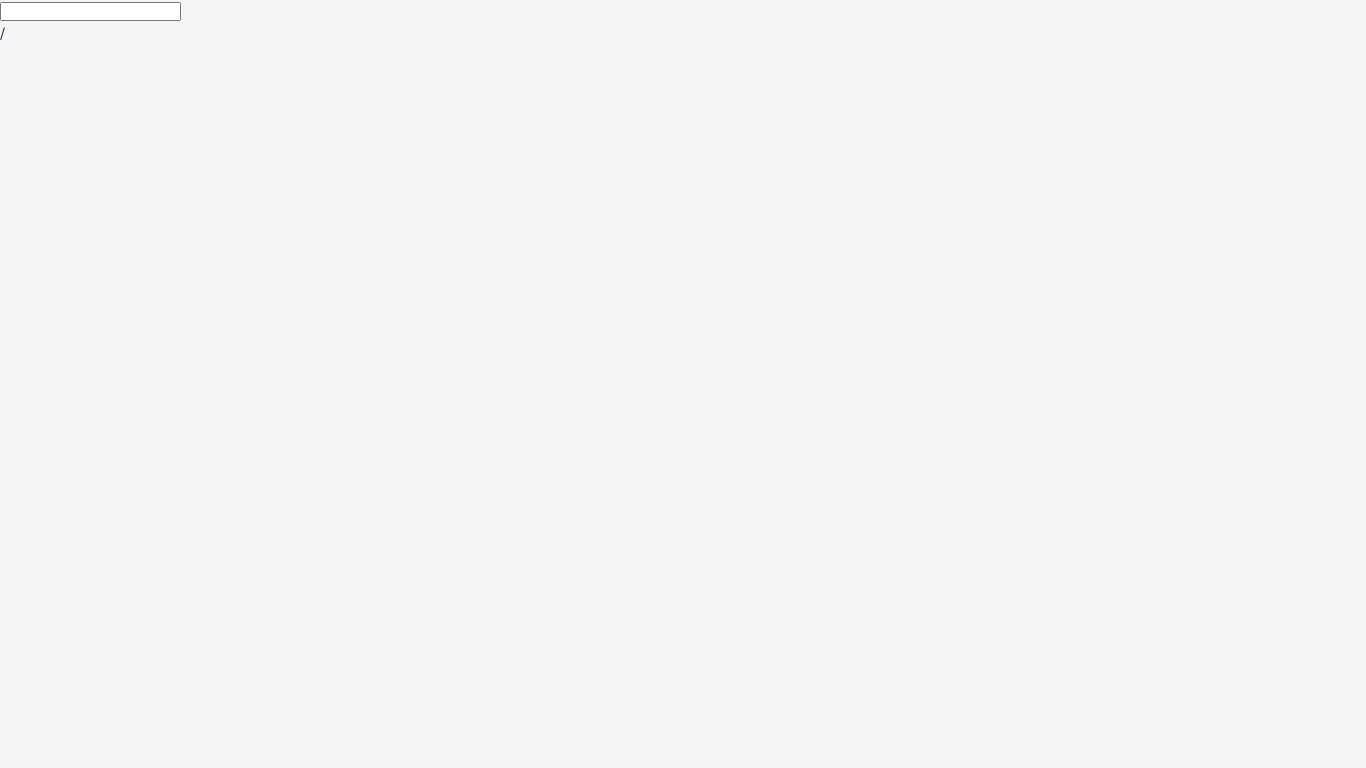
Scenario: typing searches devices server-side and Enter opens the active page
The width and height of the screenshot is (1366, 768).
Step 1. Type keys "{Control>}k{/Control}"
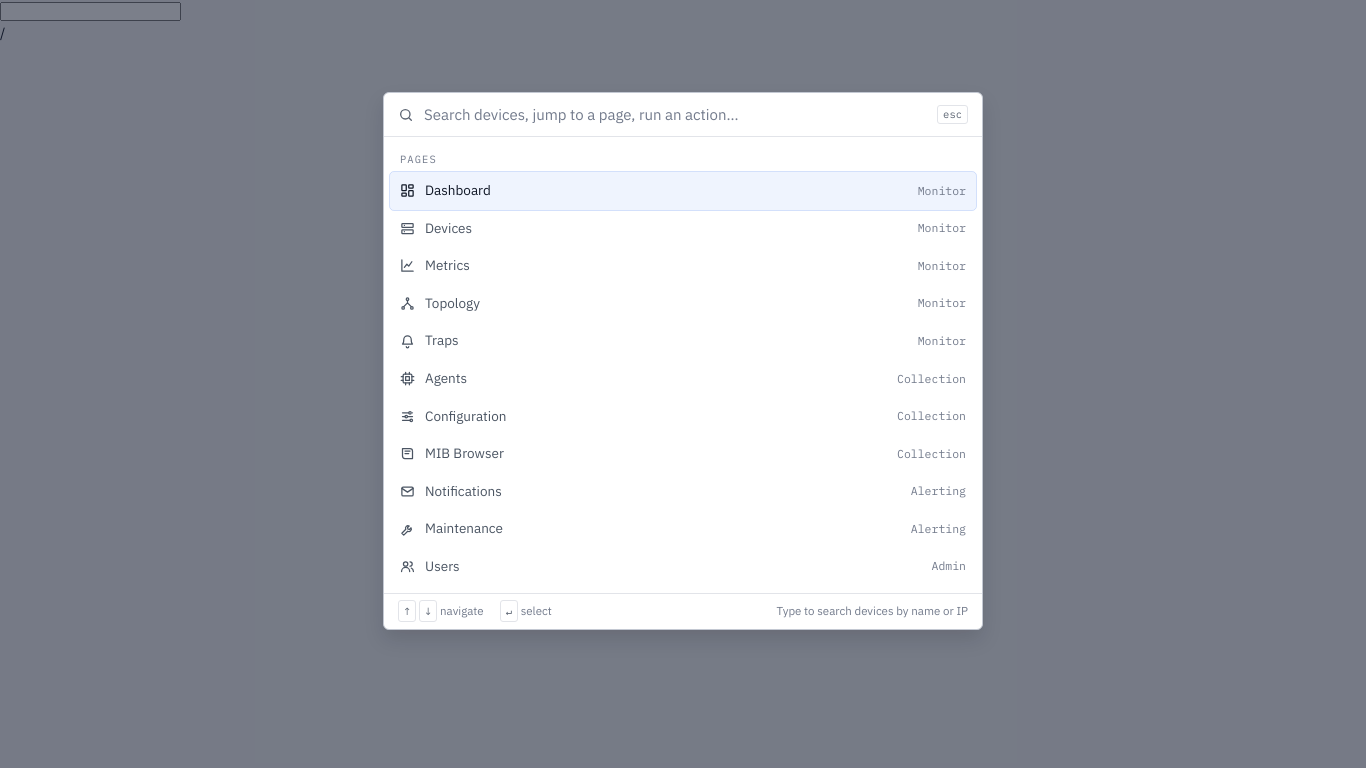
Step 2. Type "topo" into the dropdown → (676, 115), box [424,105,927,124]
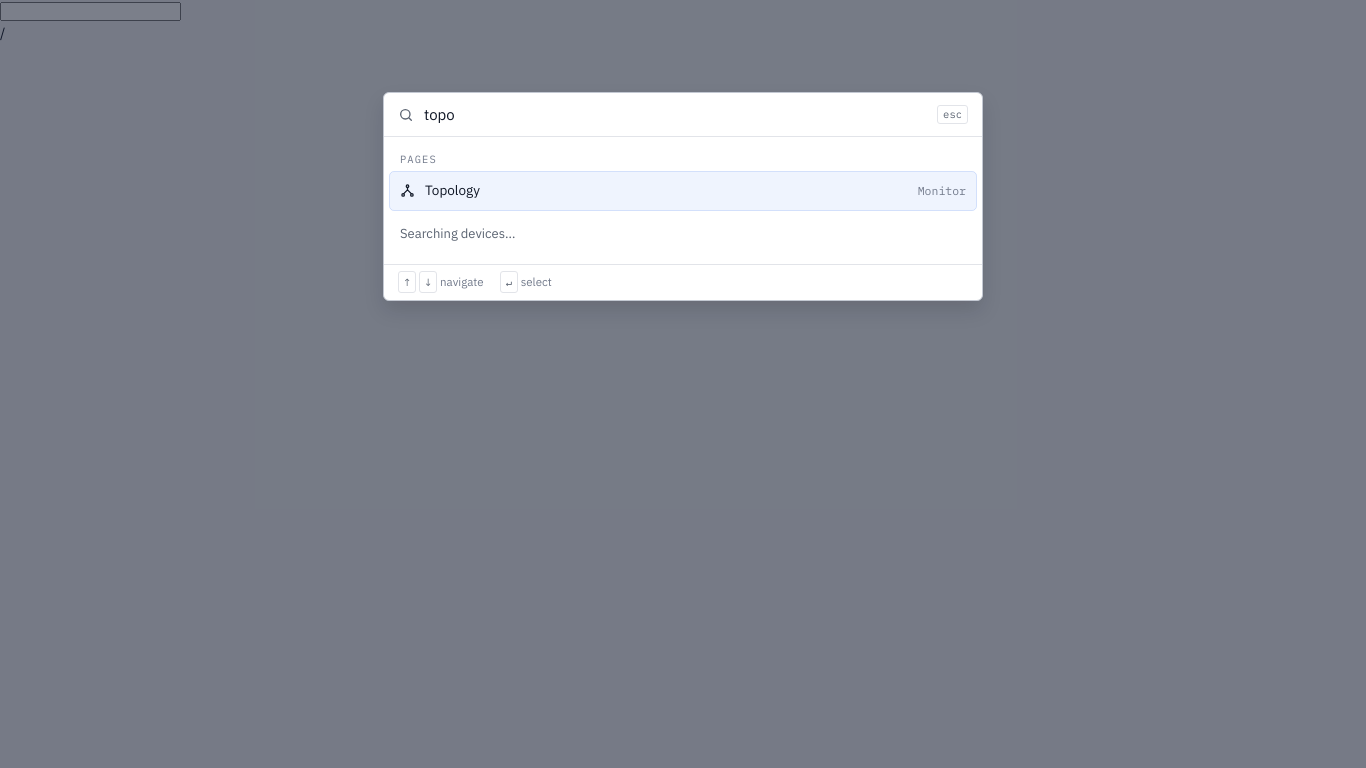
Expected: the text "Topology" is shown, [425,181,480,199]
Step 3. Press Enter
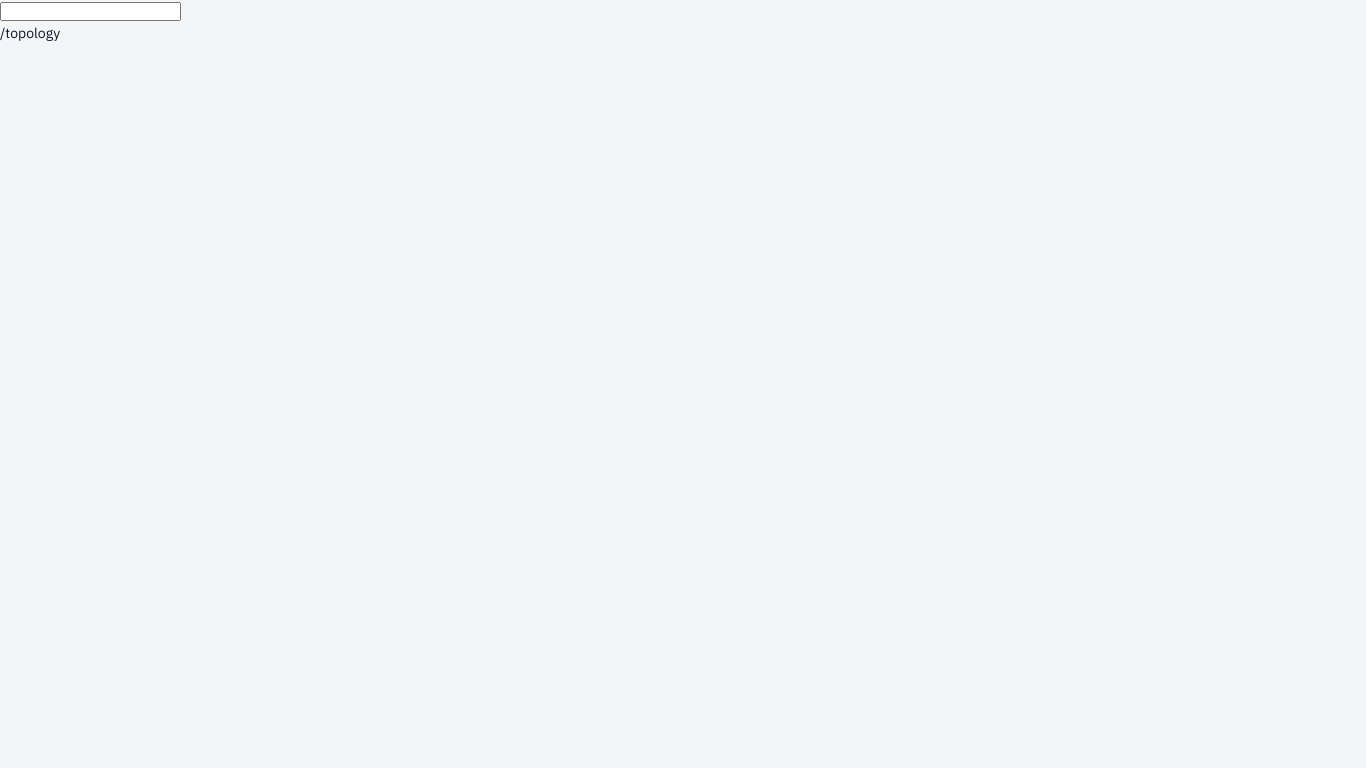
Expected: the text with test id "where" reads "/topology", [0,24,60,42]
Expected: the dialog is gone
